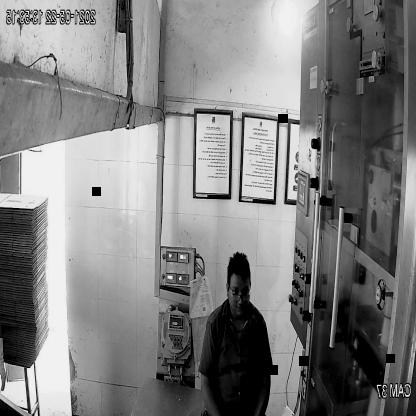goggles: (227, 281, 253, 307)
